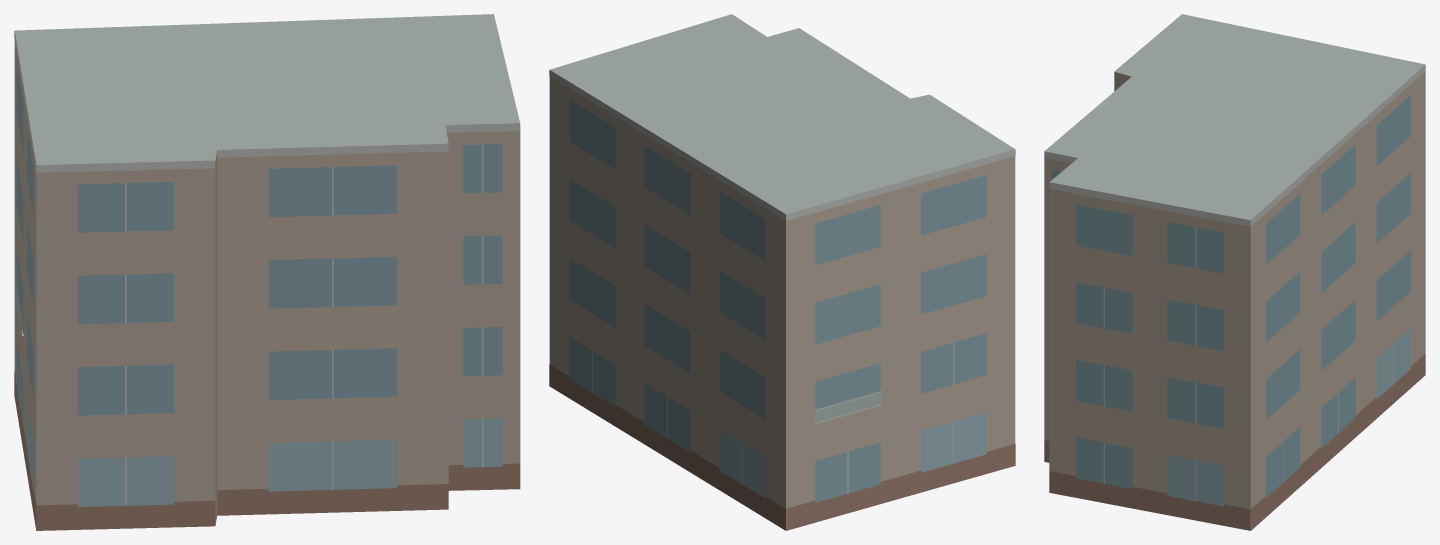
The model's file is survey-upis-32534319.glb.
3 renders of one model, left to right at view 1: azimuth 30°, elevation 25°; view 2: azimuth 150°, elevation 25°; view 3: azimuth 270°, elevation 25°, orthographic. The views are drawn at different scales.
Parts seen in each view (by area): view 1: survey-upis-32534319.tmp; view 2: survey-upis-32534319.tmp; view 3: survey-upis-32534319.tmp.
Part boxes in pixels (bbox=[...]): survey-upis-32534319.tmp: bbox=[14, 14, 520, 530]; survey-upis-32534319.tmp: bbox=[549, 14, 1015, 530]; survey-upis-32534319.tmp: bbox=[1044, 14, 1425, 530].
Size of the model in its own units: 16.39 by 11.5 by 12.8.
